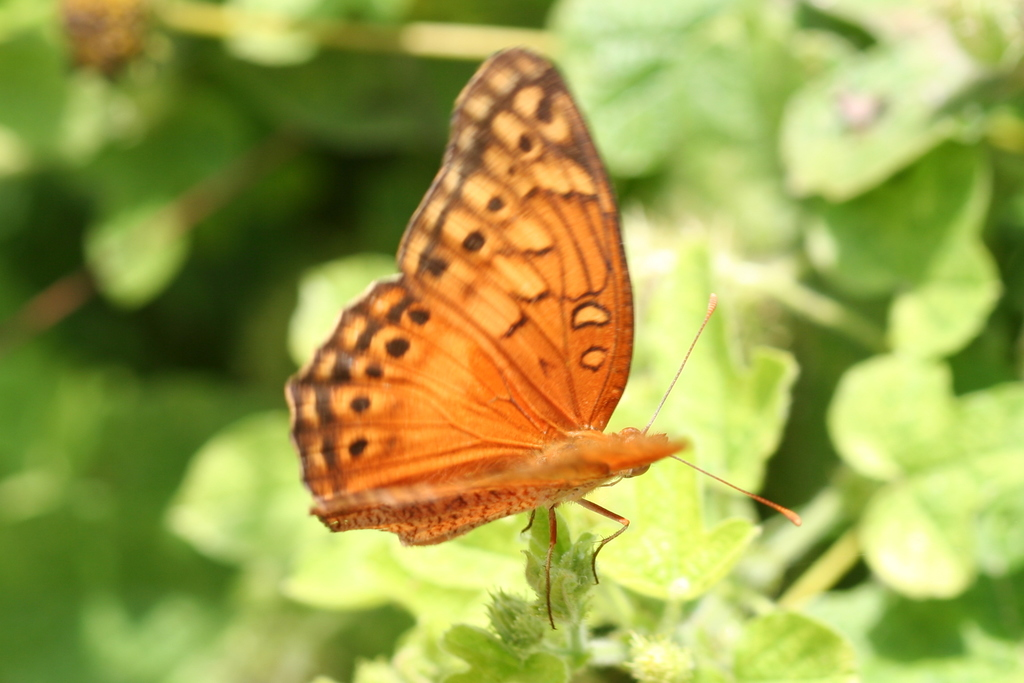Butterfly: (279, 48, 725, 628)
